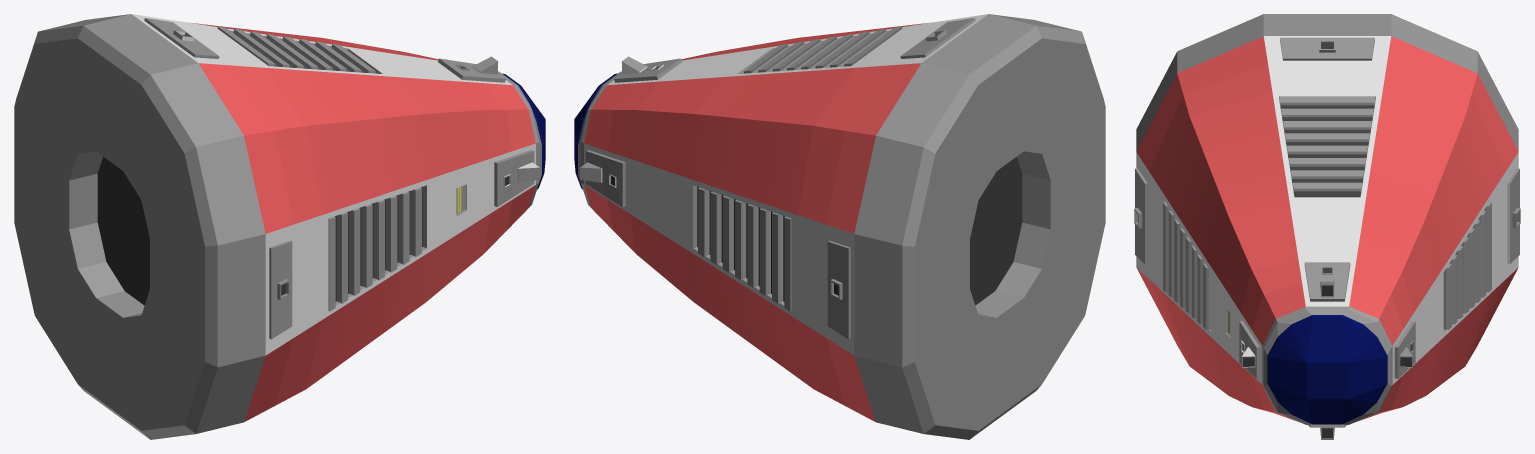
Rendered from pod.glb.
3 renders of one model, left to right at view 1: azimuth 30°, elevation 25°; view 2: azimuth 150°, elevation 25°; view 3: azimuth 270°, elevation 25°, orthographic. The views are drawn at different scales.
Parts seen in each view (by area): view 1: Cube; view 2: Cube; view 3: Cube.
Part boxes in pixels (x1=…): Cube: x1=14, y1=14, x2=545, y2=439; Cube: x1=574, y1=14, x2=1105, y2=439; Cube: x1=1134, y1=14, x2=1520, y2=439.
Size of the model in its own units: 2.44 by 2.02 by 2.02.
